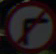Don't turn right: (9, 7, 50, 45)
